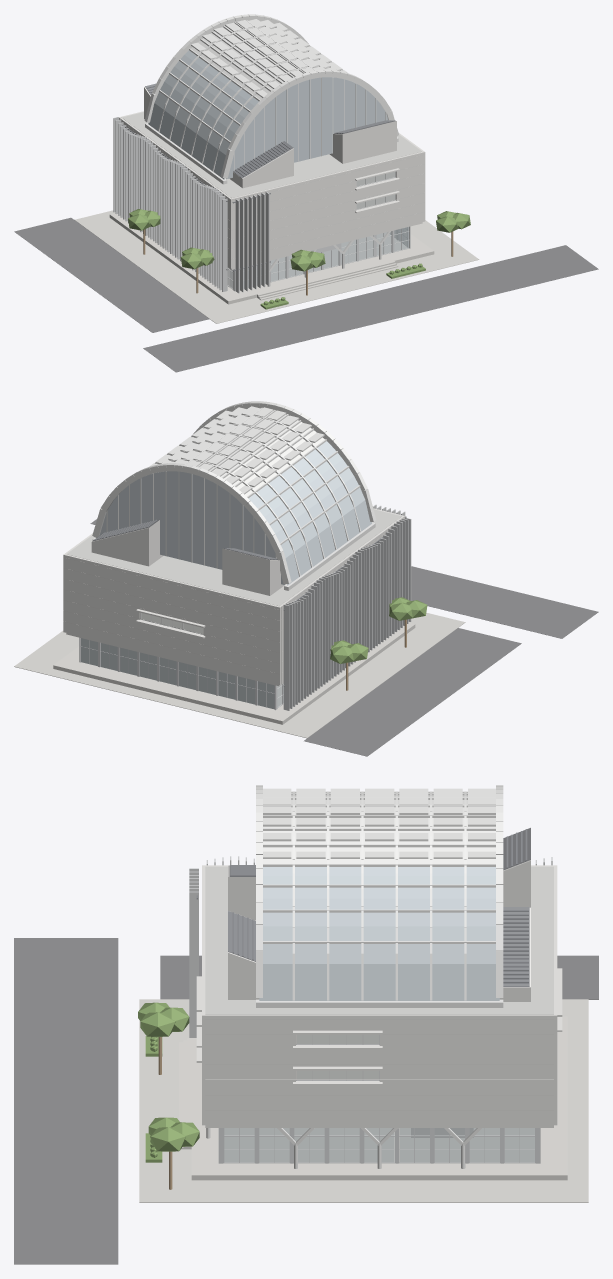
Rendered from clay-vaulted-lecture-hall-clay-v001.glb.
3 views of the same model, one above another, from view 1: azimuth 30°, elevation 25°; view 2: azimuth 150°, elevation 25°; view 3: azimuth 270°, elevation 25° (orthographic). The views are drawn at different scales.
Parts seen in each view (by area): view 1: CLAY_ASPHALT, CLAY_WALL, CLAY_VGLASS, CLAY_FIN, CLAY_WHITE, CLAY_SAND, CLAY_STONE, CLAY_MEMBRANE, CLAY_ROOF, CLAY_PLANTING, CLAY_GLASS, CLAY_TRIM (+2 smaller); view 2: CLAY_WALL, CLAY_VGLASS, CLAY_ASPHALT, CLAY_FIN, CLAY_WHITE, CLAY_SAND, CLAY_MEMBRANE, CLAY_TRIM, CLAY_GLASS, CLAY_STONE, CLAY_ROOF, CLAY_PLANTING (+2 smaller); view 3: CLAY_WALL, CLAY_ASPHALT, CLAY_VGLASS, CLAY_STONE, CLAY_SAND, CLAY_WHITE, CLAY_MEMBRANE, CLAY_GLASS, CLAY_ROOF, CLAY_LOUVRE, CLAY_TRIM, CLAY_PLANTING (+3 smaller).
Boxes of the visible parts, x1=… form: CLAY_ASPHALT: x1=14, y1=217, x2=598, y2=372; CLAY_WALL: x1=119, y1=86, x2=425, y2=269; CLAY_VGLASS: x1=148, y1=50, x2=388, y2=179; CLAY_FIN: x1=113, y1=117, x2=269, y2=293; CLAY_WHITE: x1=144, y1=14, x2=398, y2=286; CLAY_SAND: x1=74, y1=210, x2=479, y2=323; CLAY_STONE: x1=109, y1=213, x2=434, y2=304; CLAY_MEMBRANE: x1=190, y1=19, x2=348, y2=99; CLAY_ROOF: x1=121, y1=112, x2=421, y2=198; CLAY_PLANTING: x1=128, y1=209, x2=470, y2=309; CLAY_GLASS: x1=227, y1=172, x2=408, y2=288; CLAY_TRIM: x1=227, y1=171, x2=410, y2=291; CLAY_WALL: x1=63, y1=506, x2=405, y2=686; CLAY_VGLASS: x1=99, y1=441, x2=371, y2=585; CLAY_ASPHALT: x1=90, y1=519, x2=598, y2=756; CLAY_FIN: x1=283, y1=504, x2=411, y2=710; CLAY_WHITE: x1=92, y1=401, x2=375, y2=590; CLAY_SAND: x1=14, y1=612, x2=465, y2=738; CLAY_MEMBRANE: x1=149, y1=406, x2=324, y2=496; CLAY_TRIM: x1=79, y1=612, x2=283, y2=710; CLAY_GLASS: x1=81, y1=613, x2=283, y2=708; CLAY_STONE: x1=53, y1=623, x2=415, y2=724; CLAY_ROOF: x1=67, y1=509, x2=401, y2=605; CLAY_PLANTING: x1=330, y1=597, x2=427, y2=663; CLAY_WALL: x1=196, y1=860, x2=562, y2=1137; CLAY_ASPHALT: x1=14, y1=938, x2=598, y2=1264; CLAY_VGLASS: x1=259, y1=867, x2=499, y2=1000; CLAY_STONE: x1=179, y1=1016, x2=567, y2=1180; CLAY_SAND: x1=139, y1=999, x2=588, y2=1202; CLAY_WHITE: x1=206, y1=785, x2=503, y2=1168; CLAY_MEMBRANE: x1=263, y1=788, x2=495, y2=863; CLAY_GLASS: x1=224, y1=1034, x2=534, y2=1162; CLAY_ROOF: x1=205, y1=866, x2=553, y2=1014; CLAY_LOUVRE: x1=228, y1=828, x2=530, y2=986; CLAY_TRIM: x1=218, y1=1034, x2=540, y2=1163; CLAY_PLANTING: x1=138, y1=1002, x2=199, y2=1162.
Size of the model in its own units: 74 by 31.95 by 56.
